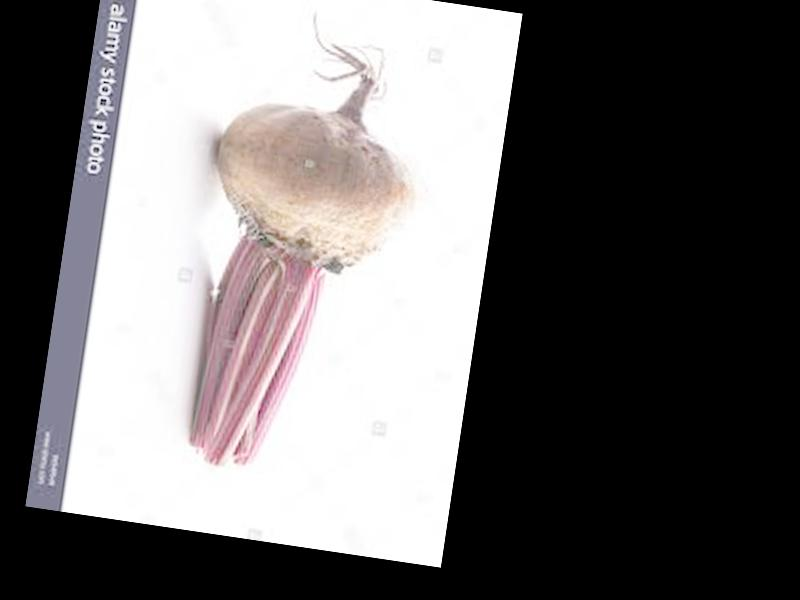Beet: (171, 1, 438, 488)
